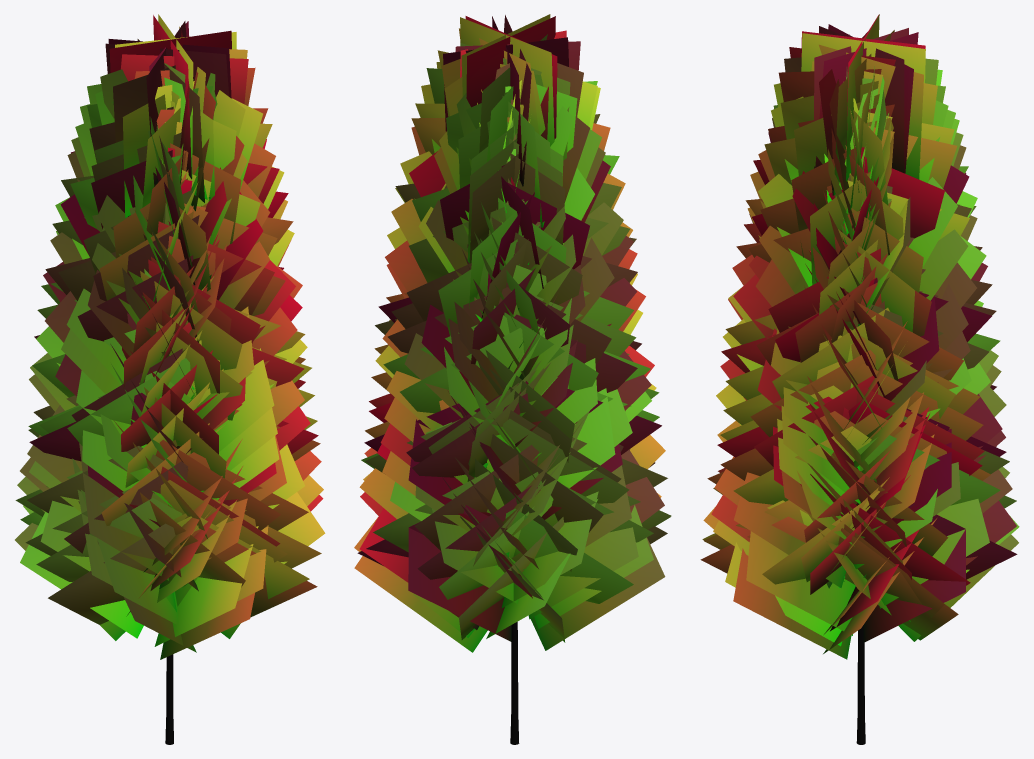
File: URP_P4_Tree_2_LOD_2.fbx
The picture shows the model from 3 angles, left to right: view 1: azimuth 30°, elevation 25°; view 2: azimuth 150°, elevation 25°; view 3: azimuth 270°, elevation 25°; orthographic projection.
Parts seen in each view (by area): view 1: Tree_2_LOD_2; view 2: Tree_2_LOD_2; view 3: Tree_2_LOD_2.
Boxes of the visible parts, box(x1,y1,x2,y2) form: Tree_2_LOD_2: box(15, 14, 325, 744); Tree_2_LOD_2: box(354, 14, 671, 744); Tree_2_LOD_2: box(700, 14, 1019, 744).
Size of the model in its own units: 213 by 522 by 213.
